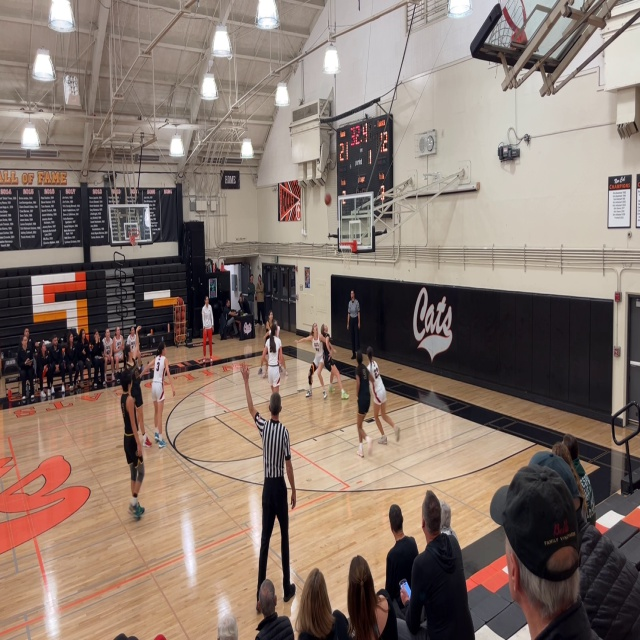Basketball: (325, 193, 331, 205)
